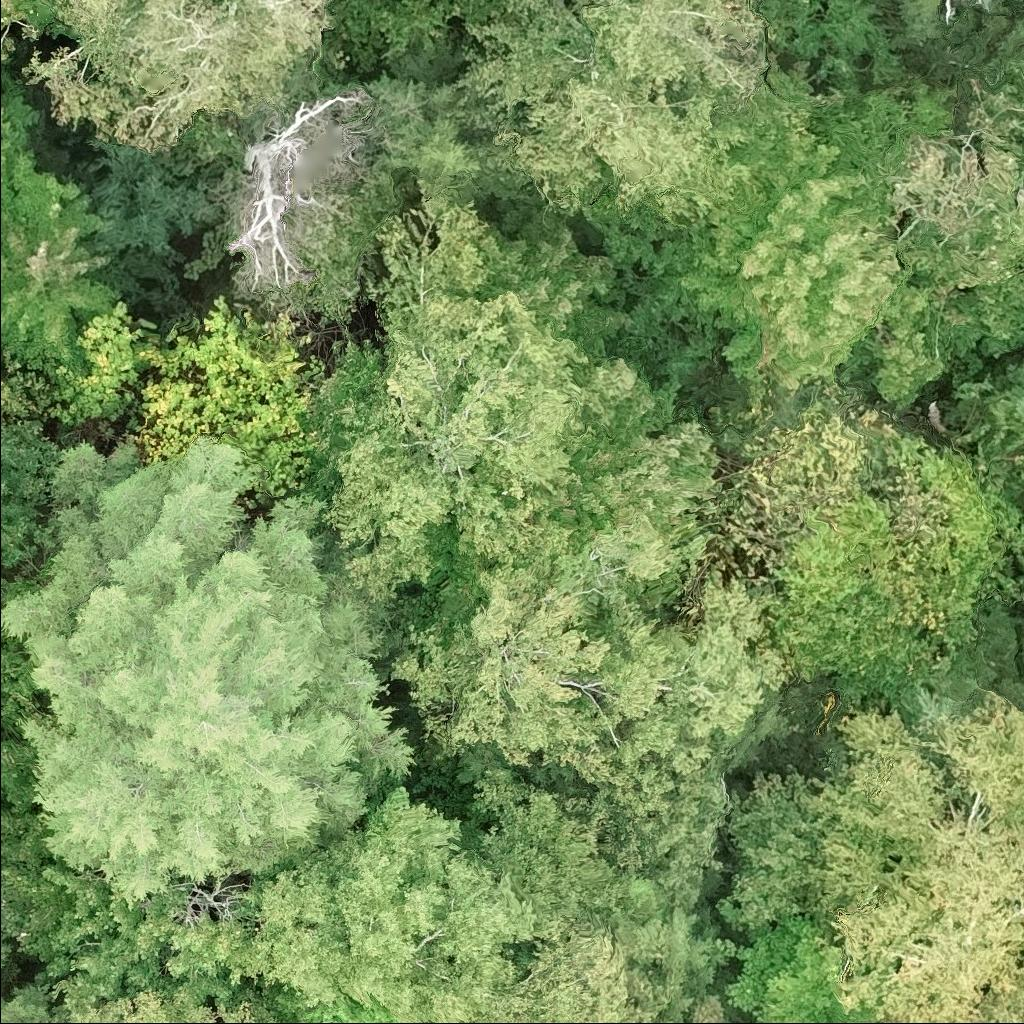crown: (0, 436, 416, 913), (392, 562, 793, 898), (299, 190, 603, 600), (453, 0, 840, 243), (606, 133, 908, 390), (796, 687, 1023, 1023), (838, 13, 1023, 409), (764, 435, 1023, 693), (325, 781, 563, 1023), (19, 0, 336, 150), (537, 355, 726, 549), (121, 294, 330, 459), (164, 845, 354, 1013), (224, 85, 373, 296), (362, 36, 542, 209), (0, 151, 124, 372), (484, 200, 629, 363), (509, 908, 668, 1023), (722, 913, 881, 1023), (27, 298, 159, 430), (755, 0, 910, 87), (326, 0, 500, 66), (63, 987, 277, 1023), (0, 0, 74, 62), (0, 80, 39, 170), (986, 357, 1023, 447), (0, 980, 65, 1023), (691, 991, 733, 1023), (985, 994, 1023, 1023), (961, 0, 994, 13), (942, 0, 956, 28), (0, 956, 8, 996), (1018, 690, 1023, 707), (271, 1019, 283, 1023), (473, 1021, 485, 1023)
